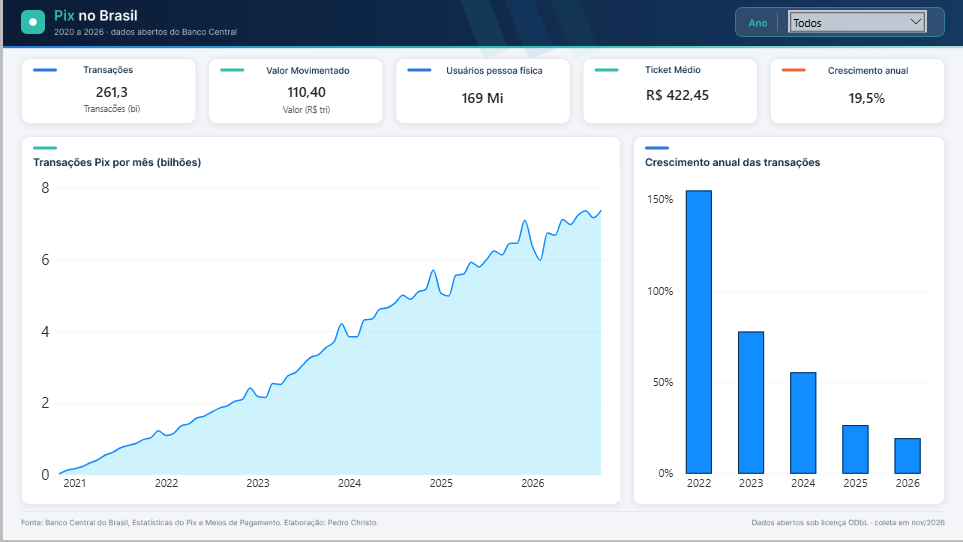

The dashboard page shown, as its layout file describes it:
{"tool":"powerbi","page":{"name":"Visão Geral","canvas":[1920,1080],"ordinal":0},"visuals":[{"type":"card","fields":{"Values":["_Medidas.Usuários PF"]},"box":[868.9,120,182.2,152.2],"z":0},{"type":"card","fields":{"Values":["_Medidas.Ticket médio (R$)"]},"box":[1255.7,134.3,186.7,114.4],"z":1000},{"type":"card","fields":{"Values":["_Medidas.Crescimento anual % (cartão)"]},"box":[1627.8,142.2,200,108.9],"z":2000},{"type":"card","fields":{"Values":["_Medidas.Valor (R$ tri)"]},"box":[510,145.6,194.4,102.2],"z":3000},{"type":"card","fields":{"Values":["_Medidas.Transações (bi)"]},"box":[143.3,152.2,147.8,88.9],"z":4000},{"type":"lineChart","fields":{"Category":["dCalendario.Data"],"Y":["_Medidas.Transações (bi)"]},"box":[60,340,1175,662.5],"z":5000},{"type":"columnChart","fields":{"Category":["dCalendario.Ano"],"Y":["_Medidas.Crescimento anual %"]},"box":[1272.5,340,595,662.5],"z":6000},{"type":"slicer","fields":{"Values":["dCalendario.Ano"]},"box":[1570,20,277.5,45],"z":7000}]}

Visuals, with their boxes in screenshot pixels (x1, y1, x2, y2), scaled from the page's 1920x1080 canvas onto the 963x542 screenshot:
card - _Medidas.Usuários PF: (436, 60, 527, 137)
card - _Medidas.Ticket médio (R$): (630, 67, 723, 125)
card - _Medidas.Crescimento anual % (cartão): (816, 71, 917, 126)
card - _Medidas.Valor (R$ tri): (256, 73, 353, 124)
card - _Medidas.Transações (bi): (72, 76, 146, 121)
lineChart - dCalendario.Data x _Medidas.Transações (bi): (30, 171, 619, 503)
columnChart - dCalendario.Ano x _Medidas.Crescimento anual %: (638, 171, 937, 503)
slicer - dCalendario.Ano: (787, 10, 927, 33)
